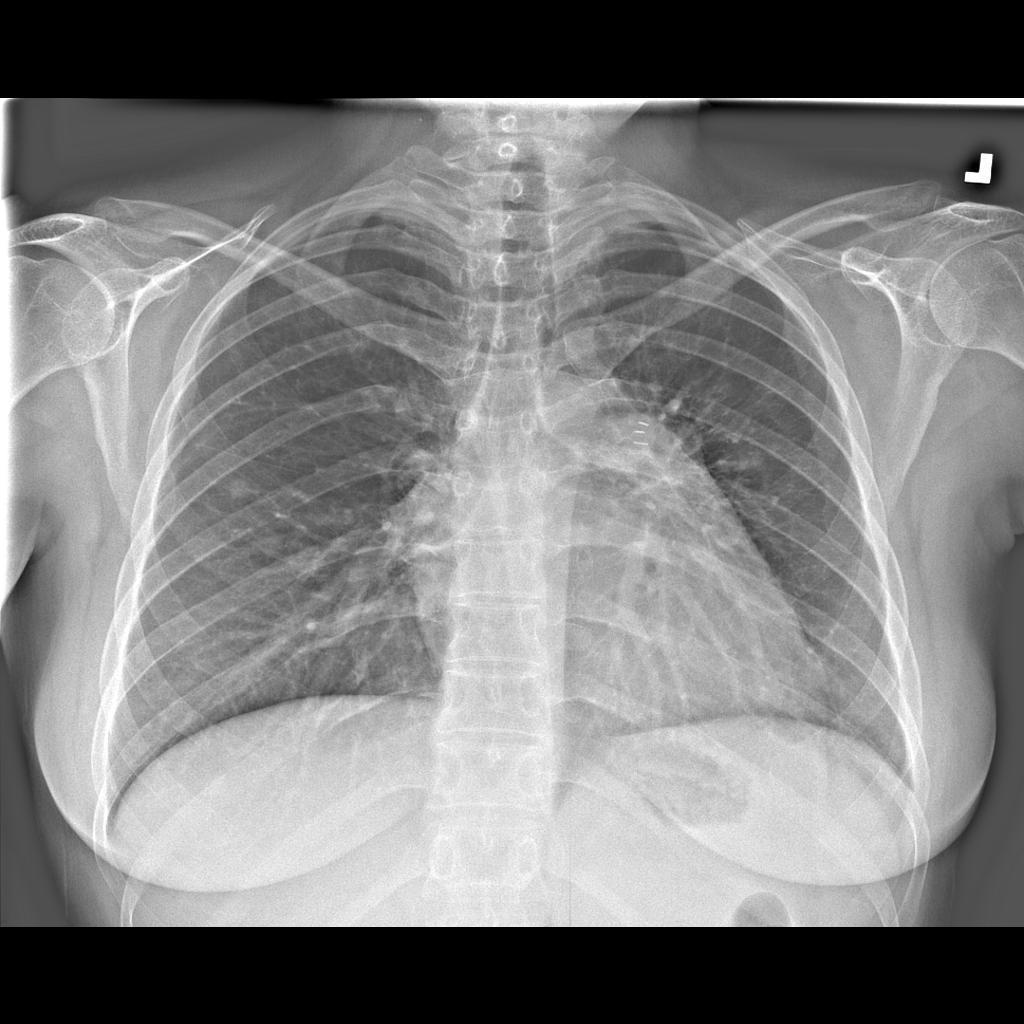Nodule: (221, 468, 256, 502)
